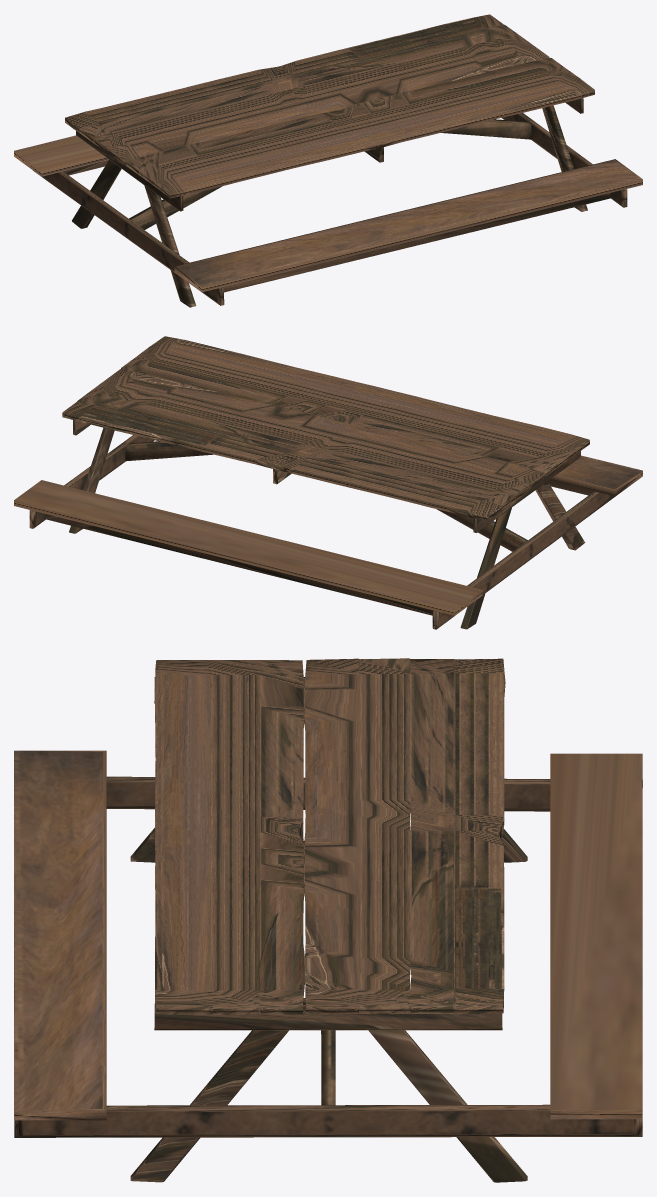
Rendered from wooden_picnic_table.glb.
3 renders of one model, top to bottom at view 1: azimuth 30°, elevation 25°; view 2: azimuth 150°, elevation 25°; view 3: azimuth 270°, elevation 25°, orthographic. The views are drawn at different scales.
Parts seen in each view (by area): view 1: wooden_picnic_table; view 2: wooden_picnic_table; view 3: wooden_picnic_table.
Part boxes in pixels (left/top/right/bottom): wooden_picnic_table: left=14, top=14, right=642, bottom=307; wooden_picnic_table: left=14, top=336, right=642, bottom=629; wooden_picnic_table: left=14, top=658, right=642, bottom=1182.
Size of the model in its own units: 3.02 by 0.7425 by 2.23.
1 material, 1 textured.
